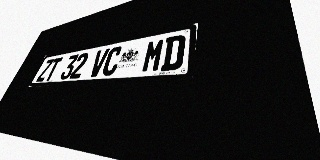2: (69, 52, 90, 79)
3: (59, 54, 79, 80)
C: (100, 46, 124, 76)
D: (160, 34, 186, 71)
M: (141, 38, 166, 73)
T: (44, 57, 63, 81)
V: (87, 48, 110, 77)
Z: (36, 59, 55, 82)
